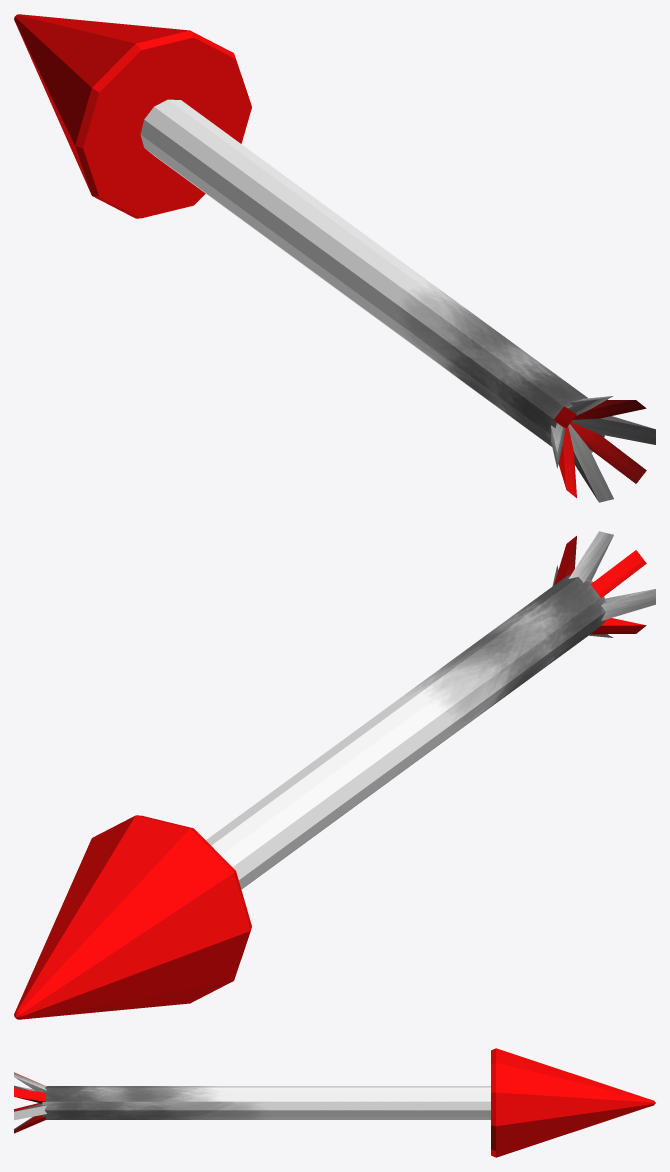
The model's file is missile.fbx.
The picture shows the model from 3 angles, top to bottom: view 1: azimuth 30°, elevation 25°; view 2: azimuth 150°, elevation 25°; view 3: azimuth 270°, elevation 25°; orthographic projection. The views are drawn at different scales.
Visible parts, largest first — view 1: pCube7; view 2: pCube7; view 3: pCube7.
Boxes of the visible parts, <box> form: pCube7: <box>14,14,655,502</box>; pCube7: <box>14,531,655,1019</box>; pCube7: <box>14,1048,655,1157</box>.
Size of the model in its own units: 3.6 by 3.43 by 20.97.
